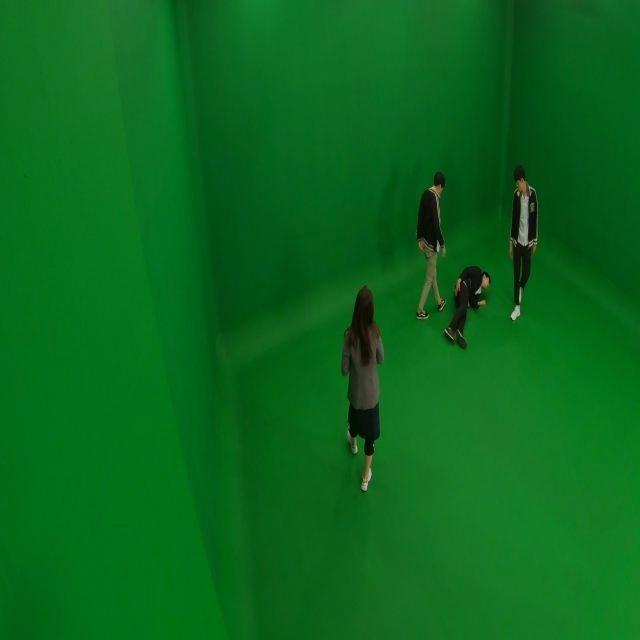fight: (414, 169, 490, 350)
non-fight: (339, 283, 387, 493), (507, 165, 539, 321)
